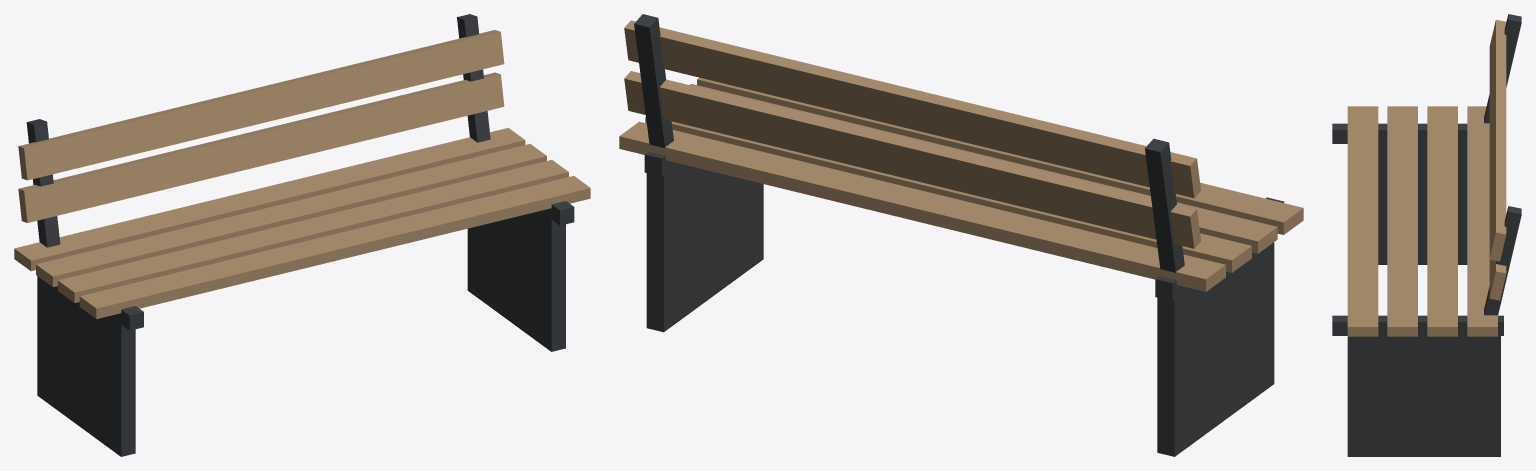
File: bench.glb
The picture shows the model from 3 angles, left to right: view 1: azimuth 30°, elevation 25°; view 2: azimuth 150°, elevation 25°; view 3: azimuth 270°, elevation 25°; orthographic projection. The views are drawn at different scales.
Visible parts, largest first — view 1: bench; view 2: bench; view 3: bench.
Boxes of the visible parts, x1,y1,x2,y2 form: bench: (14, 14, 590, 456); bench: (619, 14, 1303, 456); bench: (1332, 14, 1521, 456).
Size of the model in its own units: 1.7 by 0.8799 by 0.6178.
